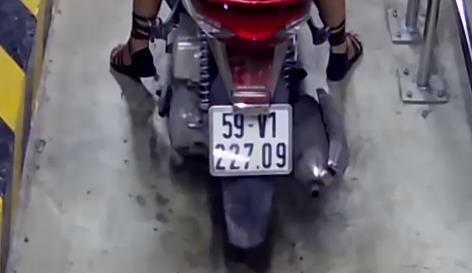lisence: (207, 104, 292, 174)
